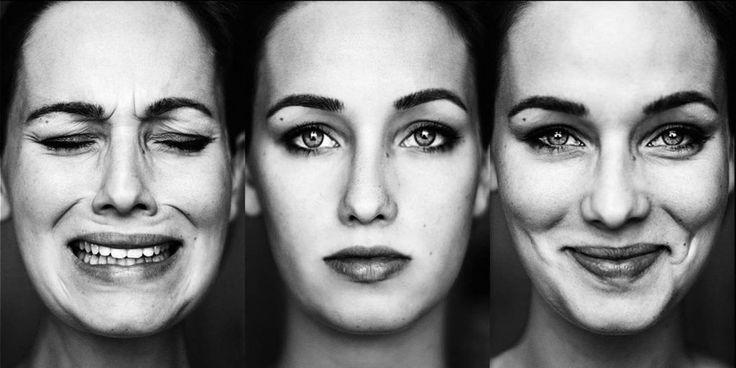feliz: (490, 9, 736, 342)
normal: (247, 9, 478, 343)
triste: (12, 11, 236, 343)
